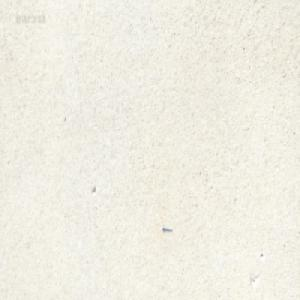Nail: (162, 225, 173, 232)
